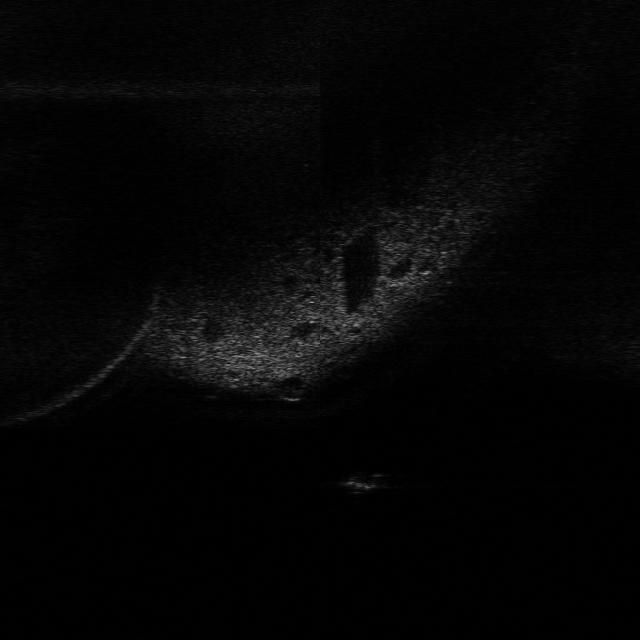cube: (334, 470, 394, 498)
